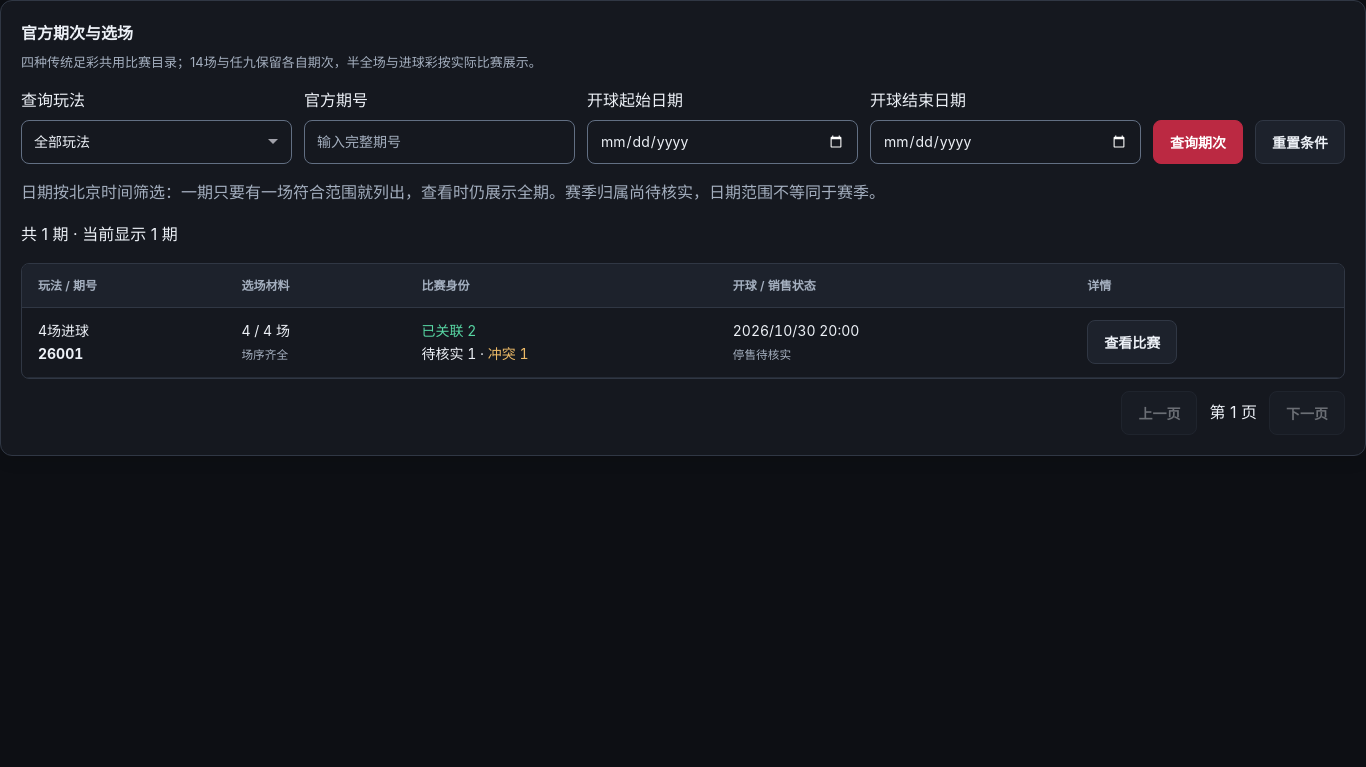
Scenario: PoolFixtureCatalog › 四玩法入口及查询详情展示真实身份缺口，不将传统独有比赛当缺失
The width and height of the screenshot is (1366, 767).
Click the button with aria-label "查看4场进球第26001期": point(1132, 342) [1087,320,1177,364]
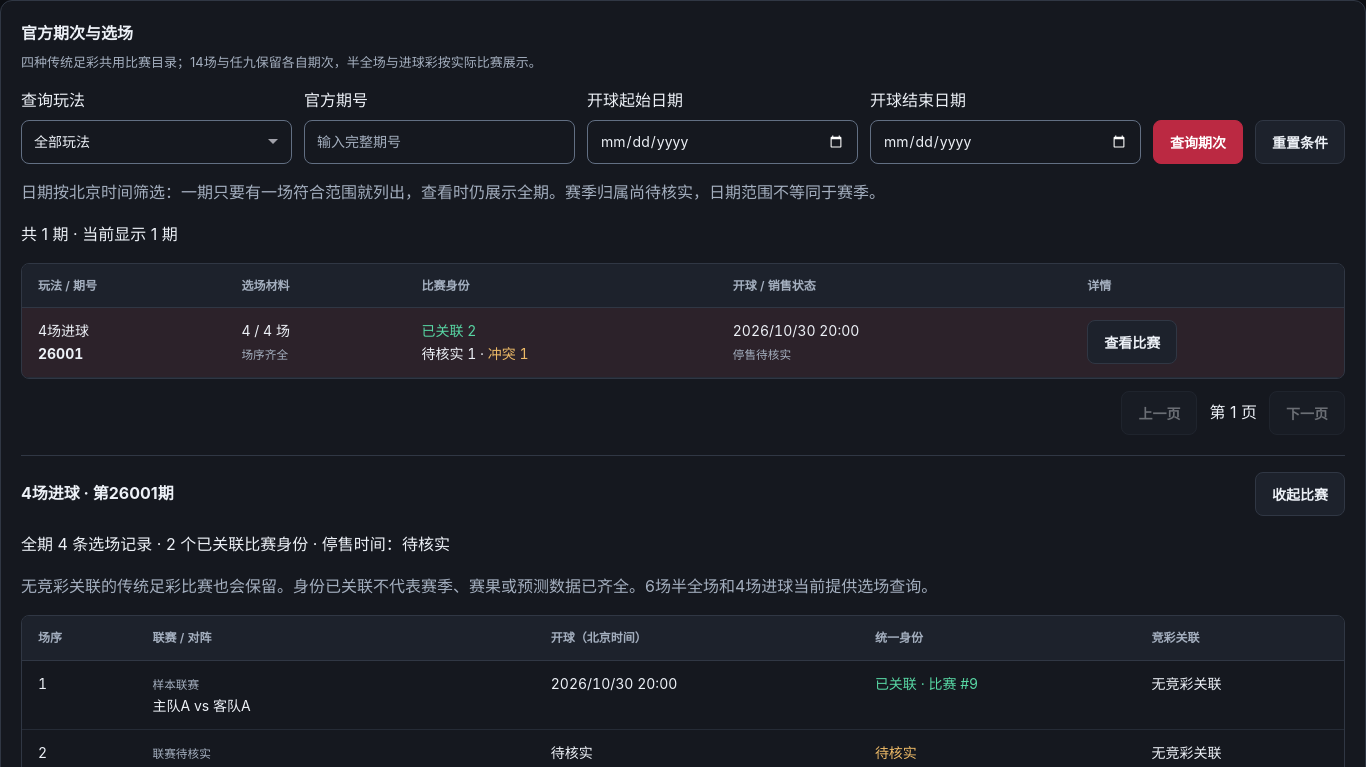
Result: the text "主队A vs 客队A" is shown at [136,660,535,730]
Result: the text "已关联 · 比赛 #9" is shown at [875,674,978,692]
Result: the text "无竞彩关联" is shown 3 times
